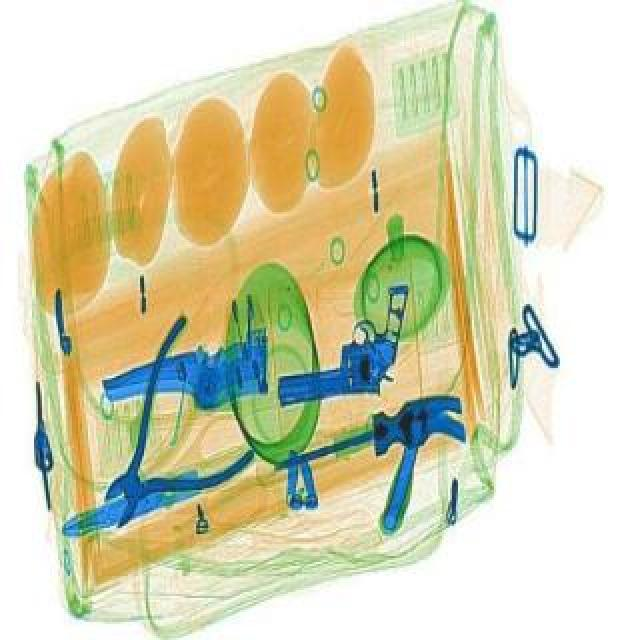gun: (260, 280, 426, 406)
wrench: (36, 310, 300, 554)
